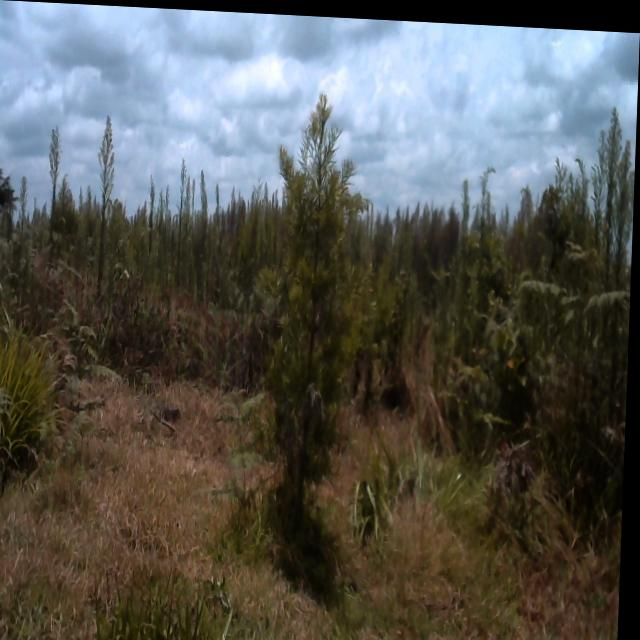Podocarpus falcatus: (266, 68, 386, 555)
